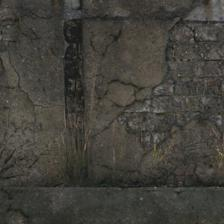Crack: (92, 17, 183, 91), (6, 45, 63, 133), (91, 83, 165, 140)
